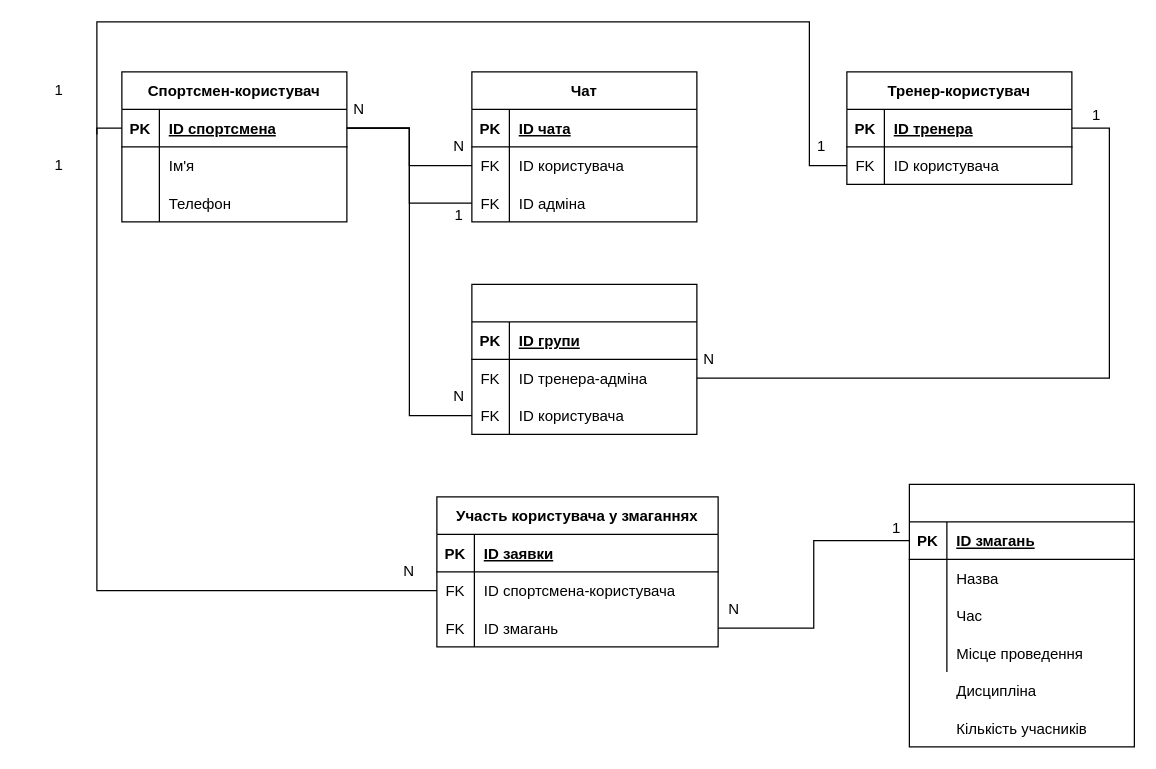
Image size: 1156x769. Some labels were removed from this diagram. Each missing label, with the box of its shape:
Група: (471, 283, 697, 434)
Змагання: (908, 483, 1134, 747)
